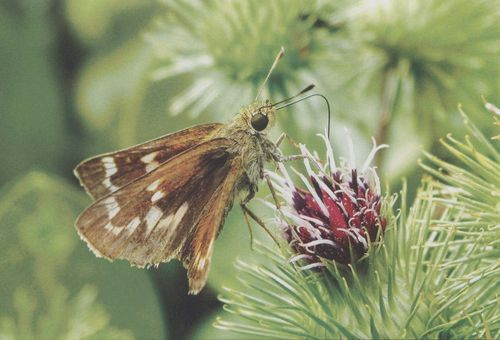Hesperiidae: (73, 49, 335, 293)
